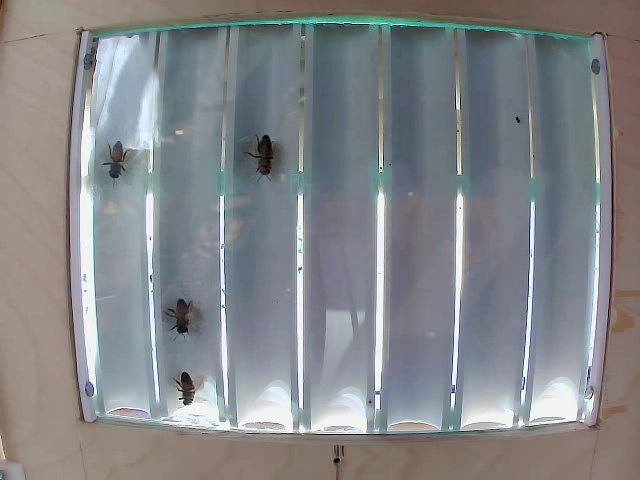bee: (164, 358, 210, 408), (247, 133, 284, 190), (163, 288, 202, 339), (103, 142, 135, 182)
